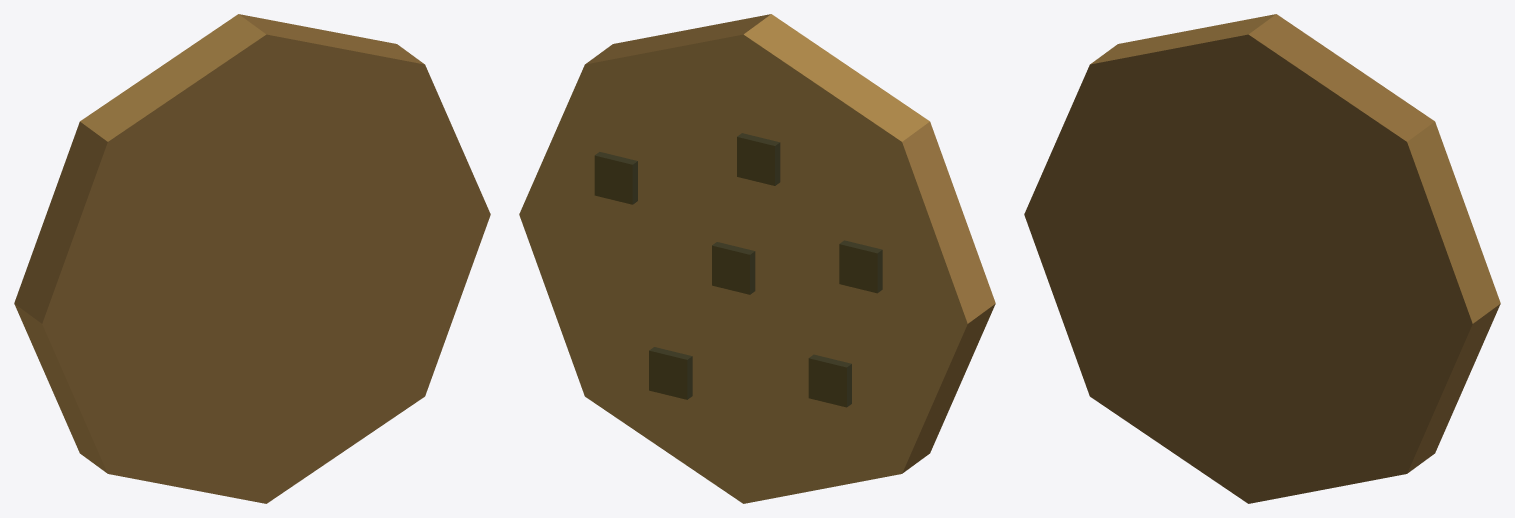
Rendered from Cookie.fbx.
The picture shows the model from 3 angles, left to right: view 1: azimuth 30°, elevation 25°; view 2: azimuth 150°, elevation 25°; view 3: azimuth 330°, elevation 25°; orthographic projection.
Parts seen in each view (by area): view 1: Cookie; view 2: Cookie; view 3: Cookie.
Boxes of the visible parts, box(x1,y1,x2,y2) form: Cookie: box(14, 14, 490, 503); Cookie: box(519, 14, 995, 503); Cookie: box(1024, 14, 1500, 503).
Bounding box in the file's own units: 52.48 × 52.48 × 6.72.
